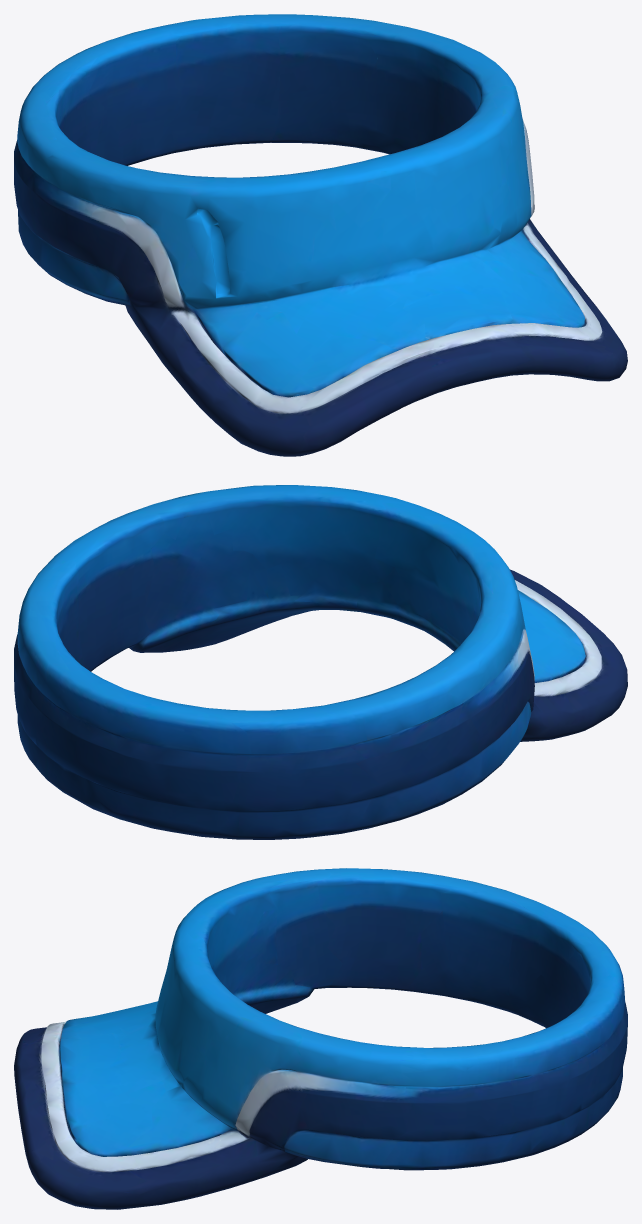
The model's file is hat-visor.glb.
3 views of the same model, one above another, from view 1: azimuth 30°, elevation 25°; view 2: azimuth 150°, elevation 25°; view 3: azimuth 270°, elevation 25° (orthographic). The views are drawn at different scales.
Parts seen in each view (by area): view 1: hat-visor; view 2: hat-visor; view 3: hat-visor.
Boxes of the visible parts, x1=… form: hat-visor: x1=14, y1=14, x2=627, y2=456; hat-visor: x1=14, y1=485, x2=627, y2=839; hat-visor: x1=14, y1=868, x2=627, y2=1209.
Size of the model in its own units: 0.7657 by 0.3363 by 1.
Materials: 1 (1 with a texture image).
